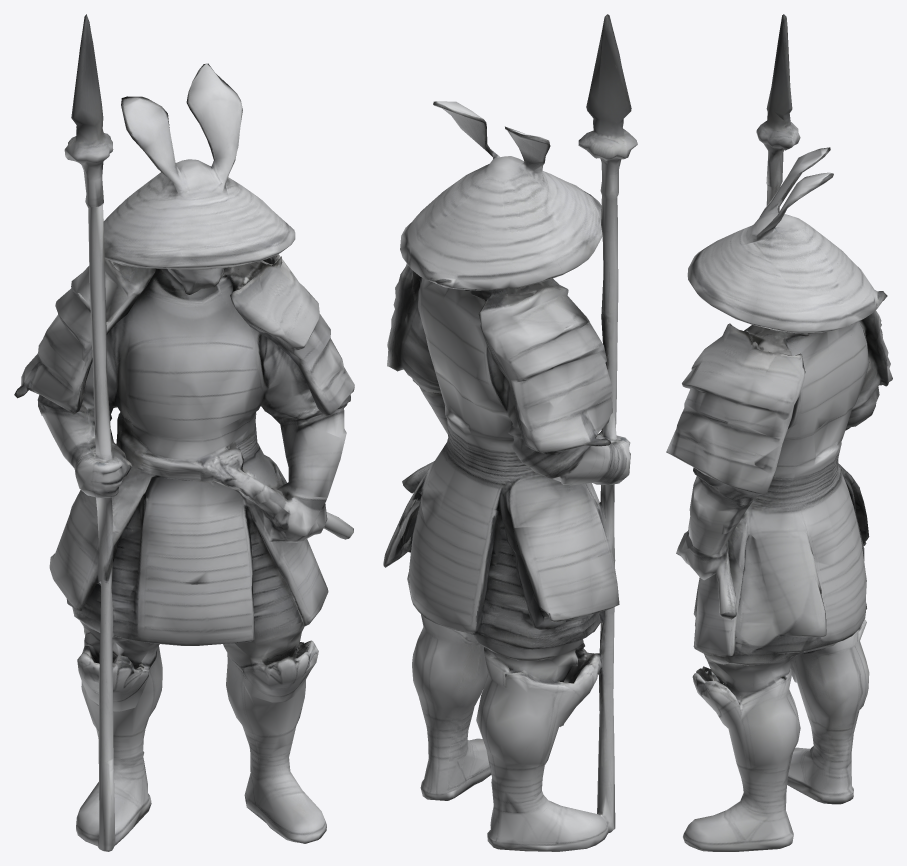
The model's file is Pawn.fbx.
3 renders of one model, left to right at view 1: azimuth 30°, elevation 25°; view 2: azimuth 150°, elevation 25°; view 3: azimuth 270°, elevation 25°, orthographic. The views are drawn at different scales.
Visible parts, largest first — view 1: Mesh_0; view 2: Mesh_0; view 3: Mesh_0.
Part boxes in pixels (<box>): Mesh_0: <box>14,14,354,851</box>; Mesh_0: <box>383,14,637,851</box>; Mesh_0: <box>666,14,892,851</box>.
Bounding box in the file's own units: 68.52 × 200 × 54.64.
1 material, 1 textured.
